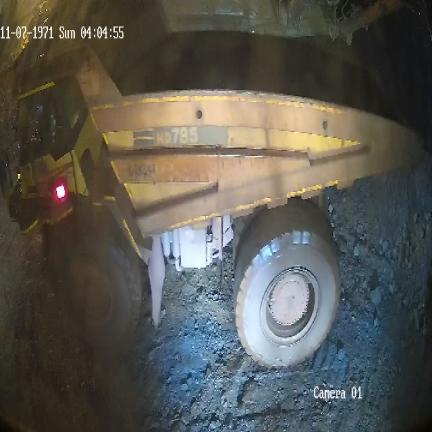pile: (328, 159, 432, 360)
